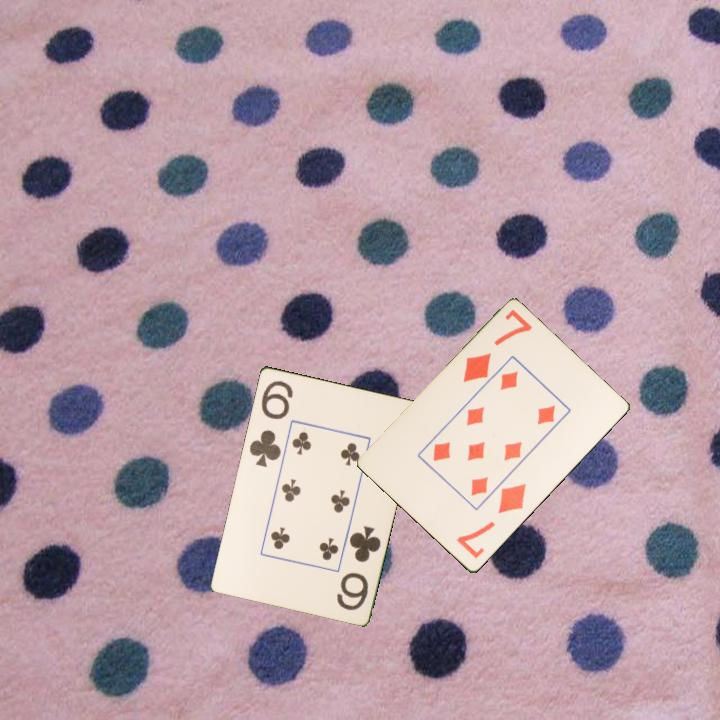6c: (245, 376, 296, 470), (333, 522, 384, 613)
7d: (453, 480, 529, 562), (459, 306, 535, 386)
